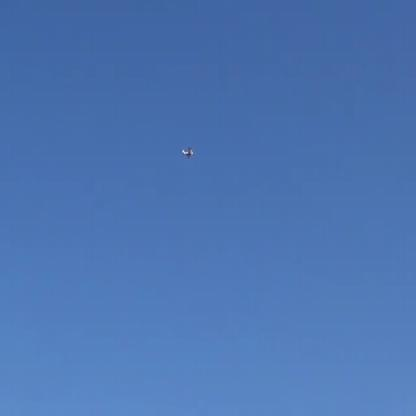CIV_Plane: (182, 146, 196, 158)
